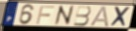6: (18, 4, 35, 26)
A: (89, 6, 110, 28)
B: (73, 5, 92, 27)
F: (35, 5, 56, 26)
N: (53, 5, 75, 27)
X: (109, 6, 132, 28)
